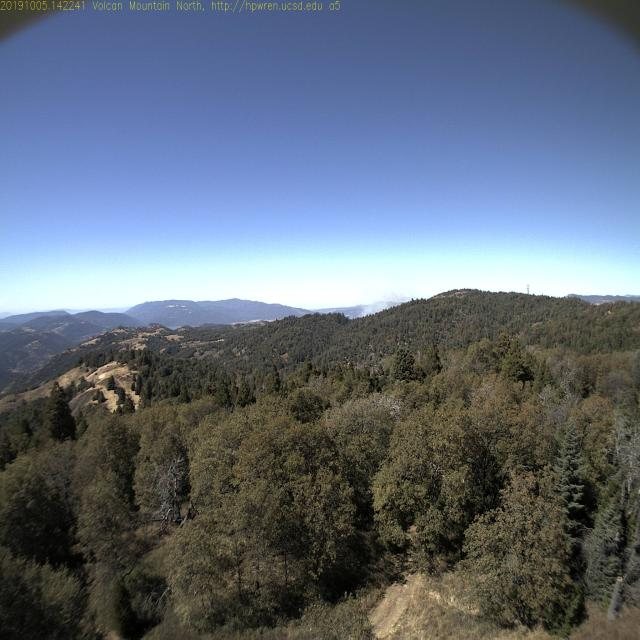smoke: (349, 292, 404, 322)
